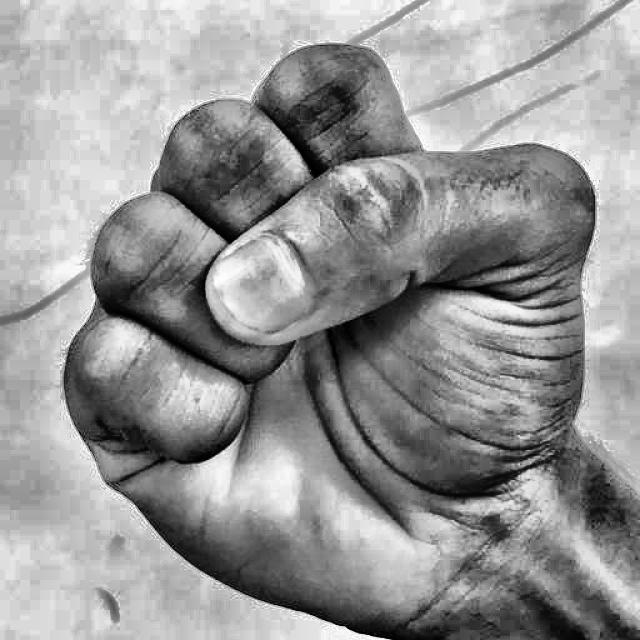Sha: (59, 29, 607, 640)
